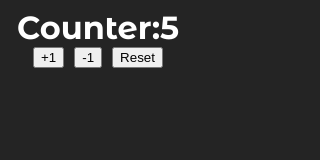
MyCounterApp › should increment the counter
The image size is (320, 160).
Click the button "+1": (49, 58) [33, 47, 64, 68]
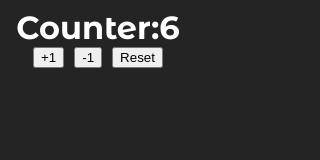
Result: the heading reads "Counter:6" at [16, 8, 180, 47]
